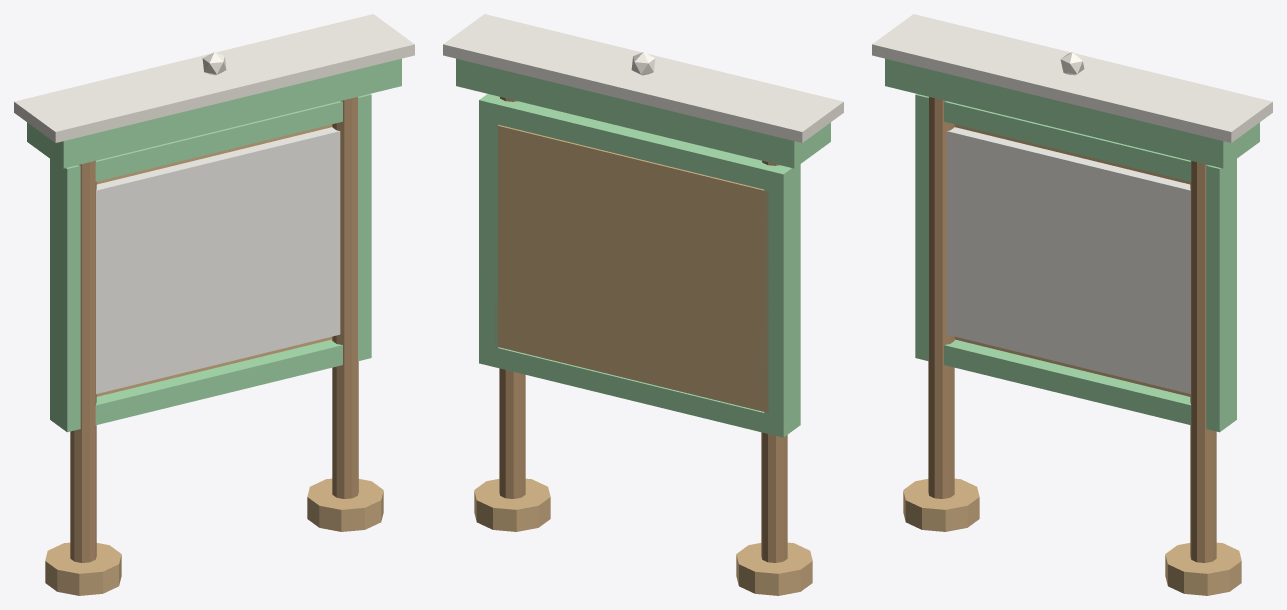
The model's file is kiosk.glb.
3 views of the same model, side by side, from view 1: azimuth 30°, elevation 25°; view 2: azimuth 150°, elevation 25°; view 3: azimuth 330°, elevation 25° (orthographic).
Visible parts, largest first — view 1: kiosk, kiosk_board; view 2: kiosk; view 3: kiosk, kiosk_board.
Part boxes in pixels (x1=…): kiosk: x1=14, y1=14, x2=414, y2=595; kiosk_board: x1=96, y1=127, x2=340, y2=393; kiosk: x1=443, y1=14, x2=843, y2=595; kiosk: x1=872, y1=14, x2=1272, y2=595; kiosk_board: x1=946, y1=127, x2=1190, y2=393.
Size of the model in its own units: 1.7 by 2.24 by 0.34.
